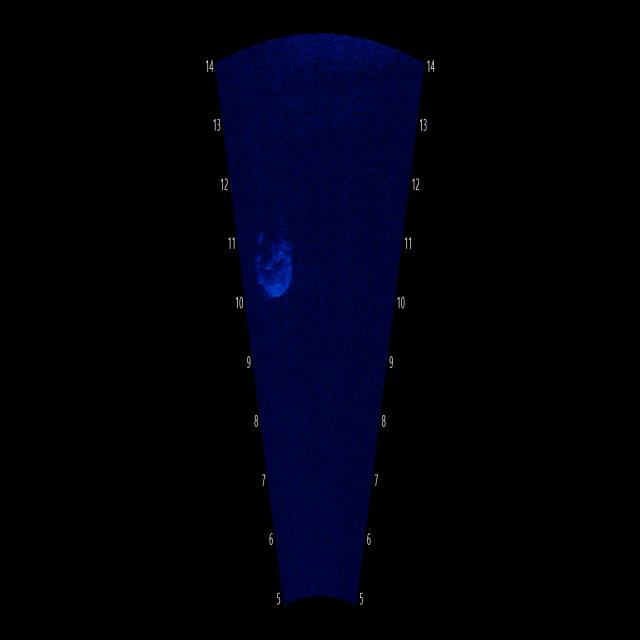circle: (242, 184, 300, 302)
